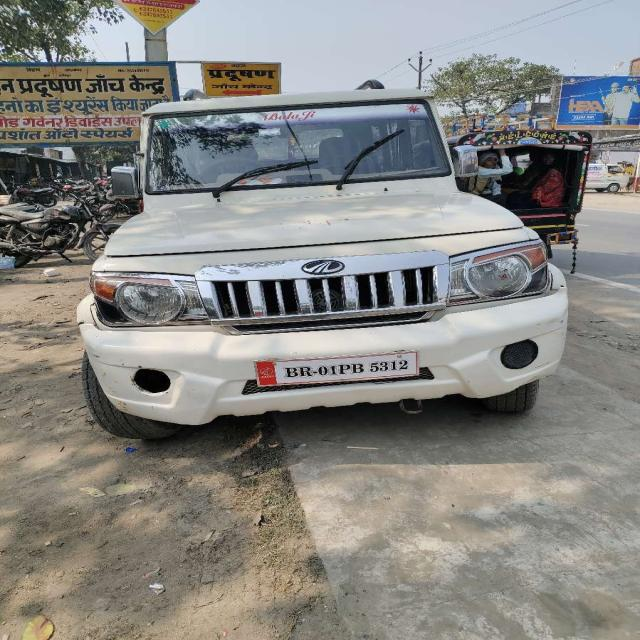light_vehicle: (55, 102, 558, 425)
